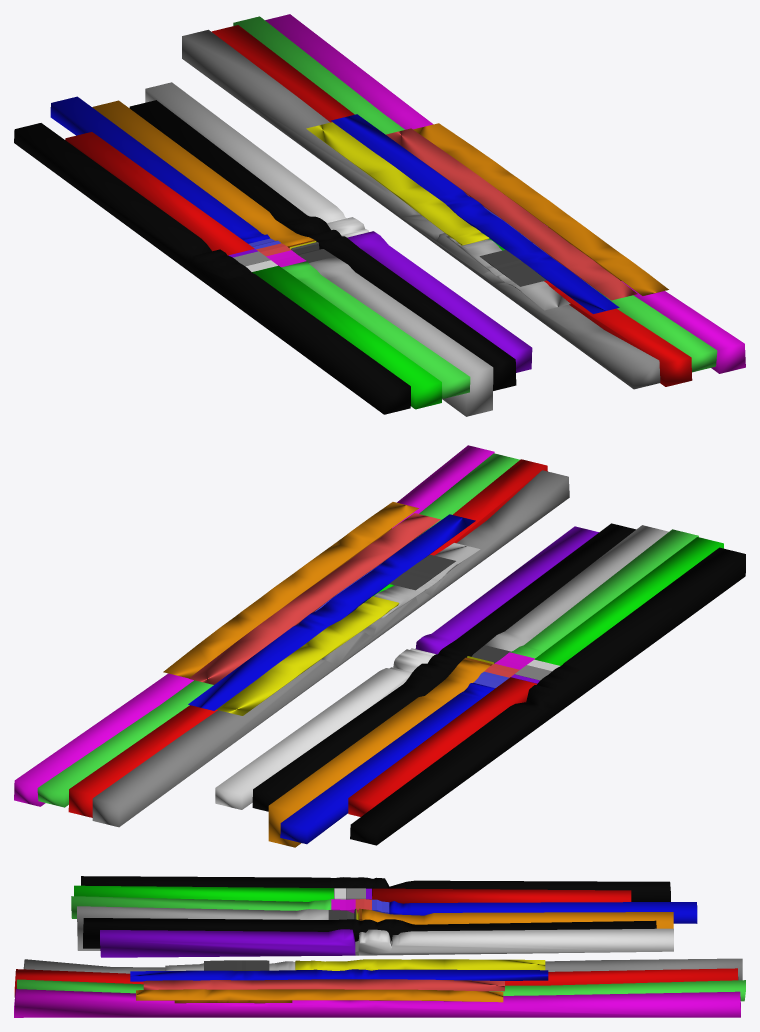
The model's file is complex-1.obj.
3 views of the same model, one above another, from view 1: azimuth 30°, elevation 25°; view 2: azimuth 150°, elevation 25°; view 3: azimuth 270°, elevation 25° (orthographic). The views are drawn at different scales.
Parts seen in each view (by area): view 1: NSN4_B1, SN1_B1, NSN8_B1, NS2_B3, NS4_B1, SN2_B1, NS4_B3, NS3_B3, NSN9_B1:2, NS2_B3:1, NSN7_B1_5, NSN6_B1_1 (+8 smaller); view 2: NSN4_B1, SN1_B1, NSN8_B1, NS2_B3, NS4_B1, NSN9_B1:2, NS4_B3, SN2_B1, NS3_B3, NS2_B3:1, NSN7_B1_1, NSN6_B1_1 (+8 smaller); view 3: NS4_B1, NSN9_B1:2, NSN9_B1:1:1, NSN8_B1, NSN4_B1, NS2_B3, NS4_B3, SN2_B1, NS2_B3:1, NS3_B3, NSN6_B1_1, NSN5_B1_2 (+11 smaller).
Boxes of the visible parts, x1,y1,x2,y2 form: NSN4_B1: [14, 123, 410, 414]; SN1_B1: [182, 29, 660, 389]; NSN8_B1: [129, 100, 516, 390]; NS2_B3: [331, 114, 619, 313]; NS4_B1: [265, 14, 745, 373]; SN2_B1: [211, 25, 692, 386]; NS4_B3: [413, 123, 668, 295]; NS3_B3: [386, 128, 637, 300]; NSN9_B1:2: [145, 82, 368, 237]; NS2_B3:1: [233, 16, 717, 372]; NSN7_B1_5: [309, 256, 493, 416]; NSN6_B1_1: [50, 96, 270, 243]; NSN4_B1: [350, 547, 745, 845]; SN1_B1: [92, 470, 569, 827]; NSN8_B1: [252, 523, 636, 811]; NS2_B3: [188, 514, 475, 710]; NS4_B1: [14, 445, 494, 806]; NSN9_B1:2: [215, 648, 435, 809]; NS4_B3: [163, 502, 418, 678]; SN2_B1: [68, 459, 547, 817]; NS3_B3: [189, 513, 440, 684]; NS2_B3:1: [37, 453, 519, 807]; NSN7_B1_1: [268, 659, 489, 847]; NSN6_B1_1: [280, 683, 495, 844]; NS4_B1: [14, 989, 740, 1017]; NSN9_B1:2: [358, 928, 673, 955]; NSN9_B1:1:1: [100, 929, 355, 957]; NSN8_B1: [83, 918, 656, 948]; NSN4_B1: [81, 876, 670, 901]; NS2_B3: [130, 969, 548, 981]; NS4_B3: [136, 989, 503, 1002]; SN2_B1: [14, 968, 738, 997]; NS2_B3:1: [17, 979, 745, 1001]; NS3_B3: [143, 979, 504, 991]; NSN6_B1_1: [389, 901, 697, 923]; NSN5_B1_2: [372, 888, 631, 903].
Size of the model in its own units: 2400 by 316 by 5977.
